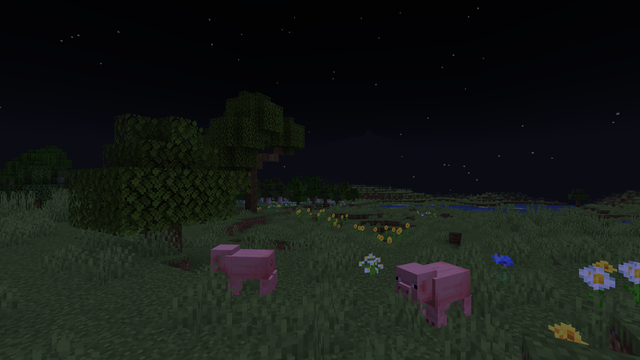cochons: (410, 258, 465, 332), (222, 245, 277, 301)
